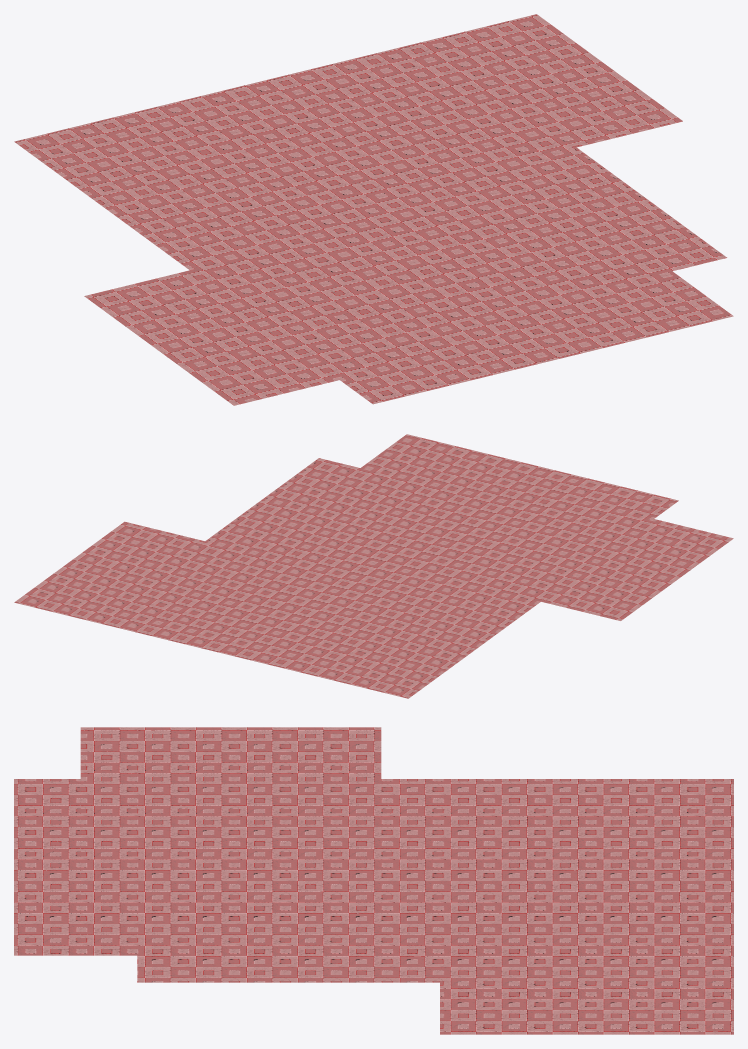
Rendered from Rest_DA_Set08_02_v01.fbx.
3 views of the same model, one above another, from view 1: azimuth 30°, elevation 25°; view 2: azimuth 150°, elevation 25°; view 3: azimuth 270°, elevation 25° (orthographic). The views are drawn at different scales.
Visible parts, largest first — view 1: Rest_DA_Set08_Ground_02; view 2: Rest_DA_Set08_Ground_02; view 3: Rest_DA_Set08_Ground_02.
Part boxes in pixels (x1=…): Rest_DA_Set08_Ground_02: x1=14, y1=14, x2=733, y2=405; Rest_DA_Set08_Ground_02: x1=14, y1=434, x2=733, y2=698; Rest_DA_Set08_Ground_02: x1=14, y1=727, x2=733, y2=1034.
Size of the model in its own units: 960 by 2.4e-05 by 950.
Materials: 1 (1 with a texture image).
